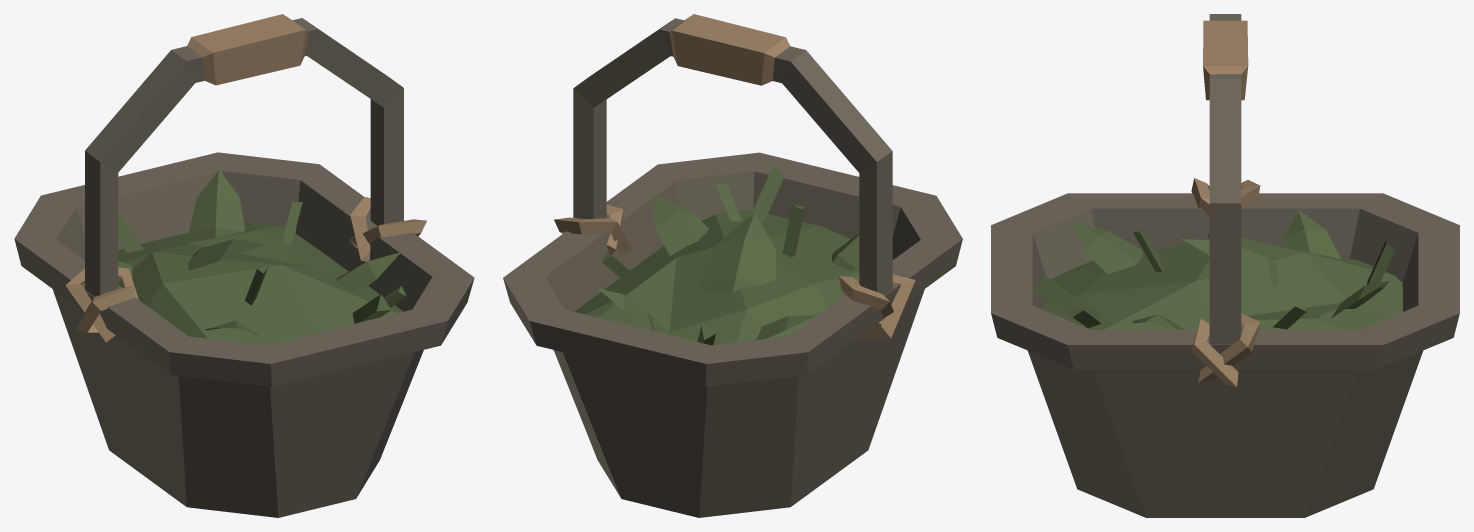
File: Basket_Full.fbx
3 renders of one model, left to right at view 1: azimuth 30°, elevation 25°; view 2: azimuth 150°, elevation 25°; view 3: azimuth 270°, elevation 25°, orthographic.
Parts seen in each view (by area): view 1: Basket_Full; view 2: Basket_Full; view 3: Basket_Full.
Boxes of the visible parts, x1,y1,x2,y2 form: Basket_Full: [14, 14, 474, 517]; Basket_Full: [503, 14, 962, 517]; Basket_Full: [991, 14, 1459, 517].
Bounding box in the file's own units: 54.51 × 64.58 × 65.22.
